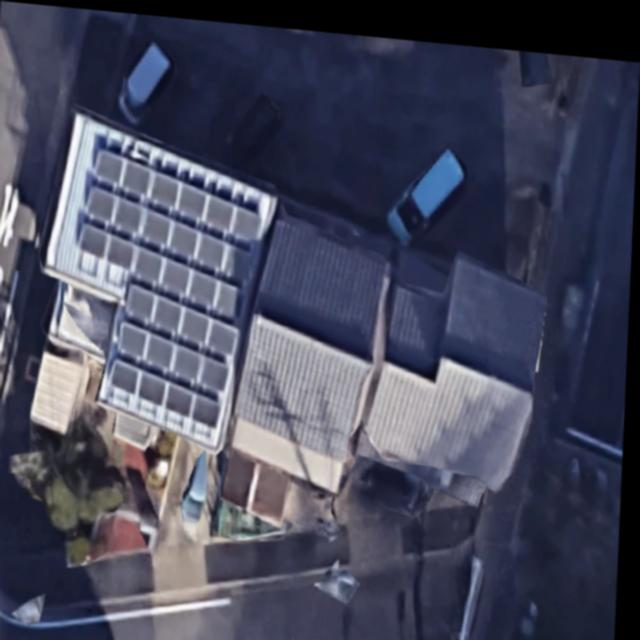Batiment: (47, 110, 278, 446), (361, 242, 548, 494), (235, 209, 391, 485)
